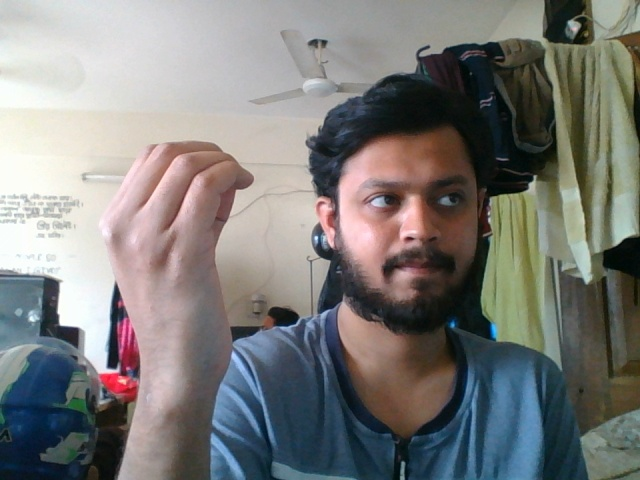oo: (94, 129, 269, 341)
